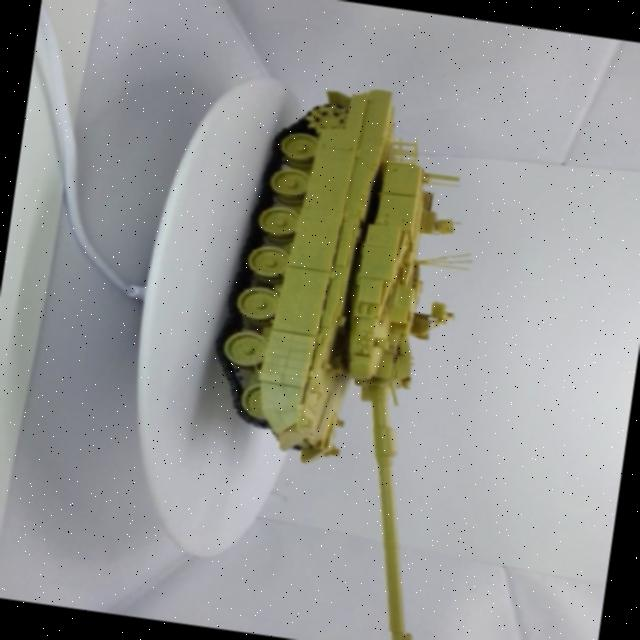korea tank: (166, 44, 506, 640)
